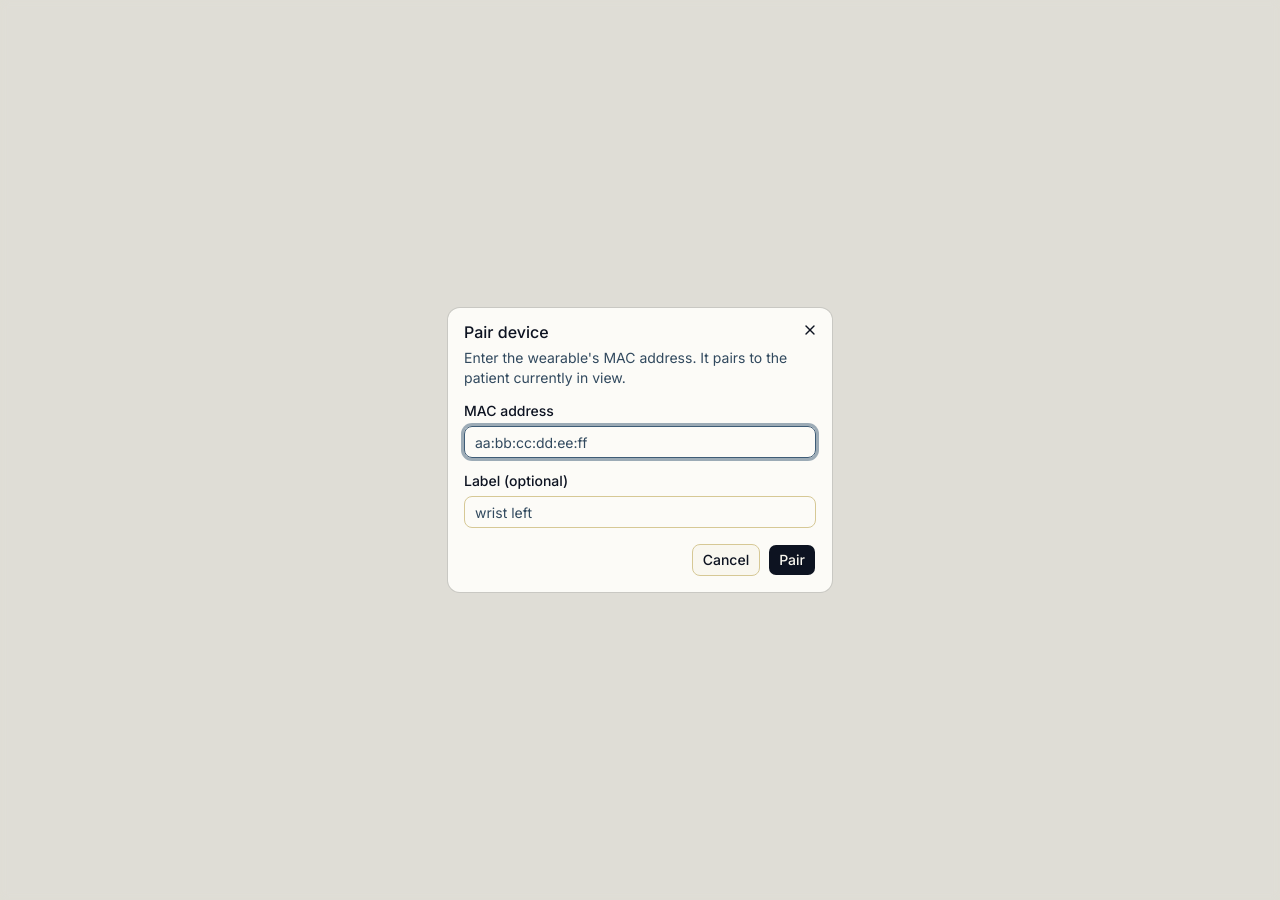
Test: PairDeviceDialog › rejects an invalid MAC address with a Zod validation error
In the field labelled "MAC address": (640, 442) [464,426,816,458], type "not-a-mac"
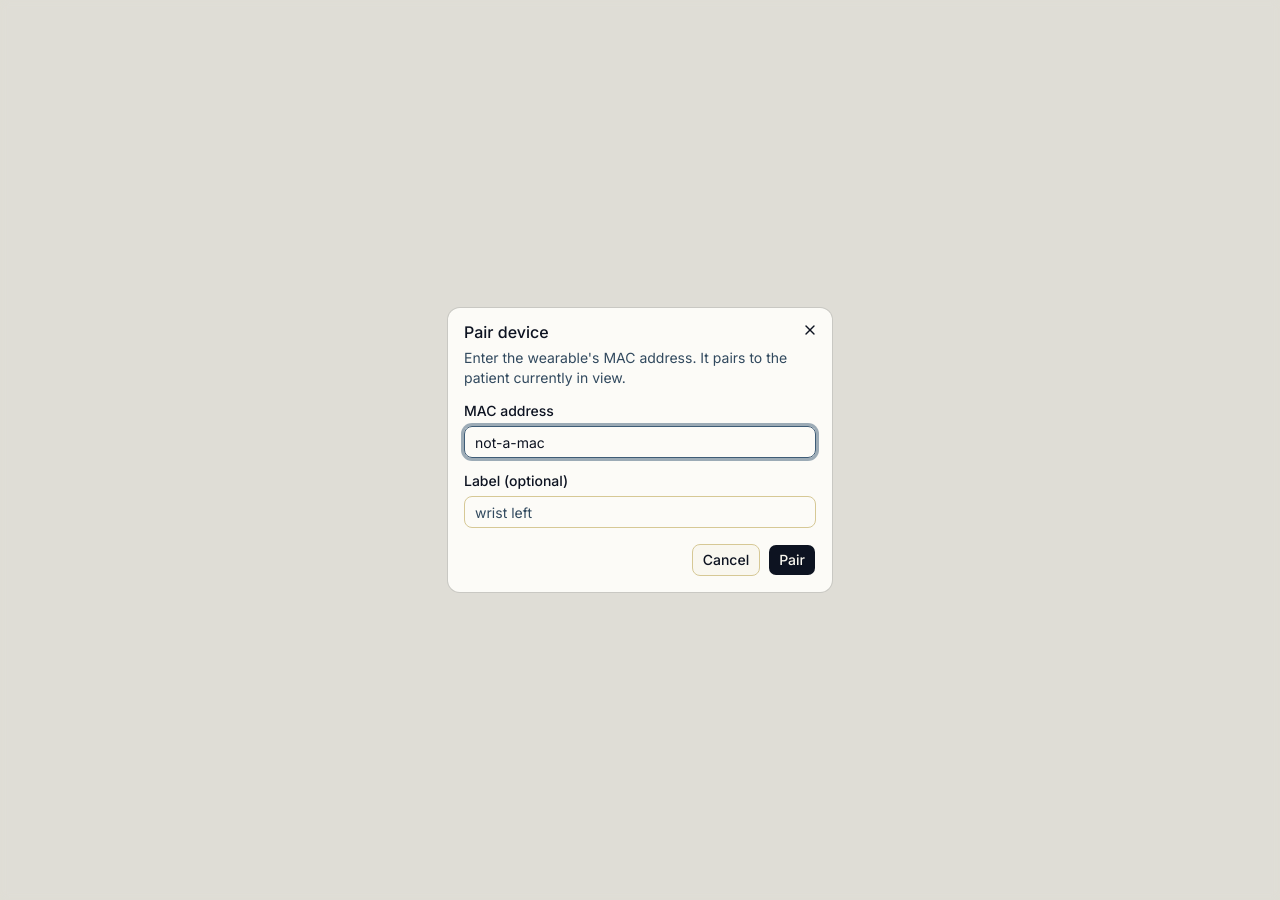
Click the button "Pair": (792, 560) [768,544,816,576]
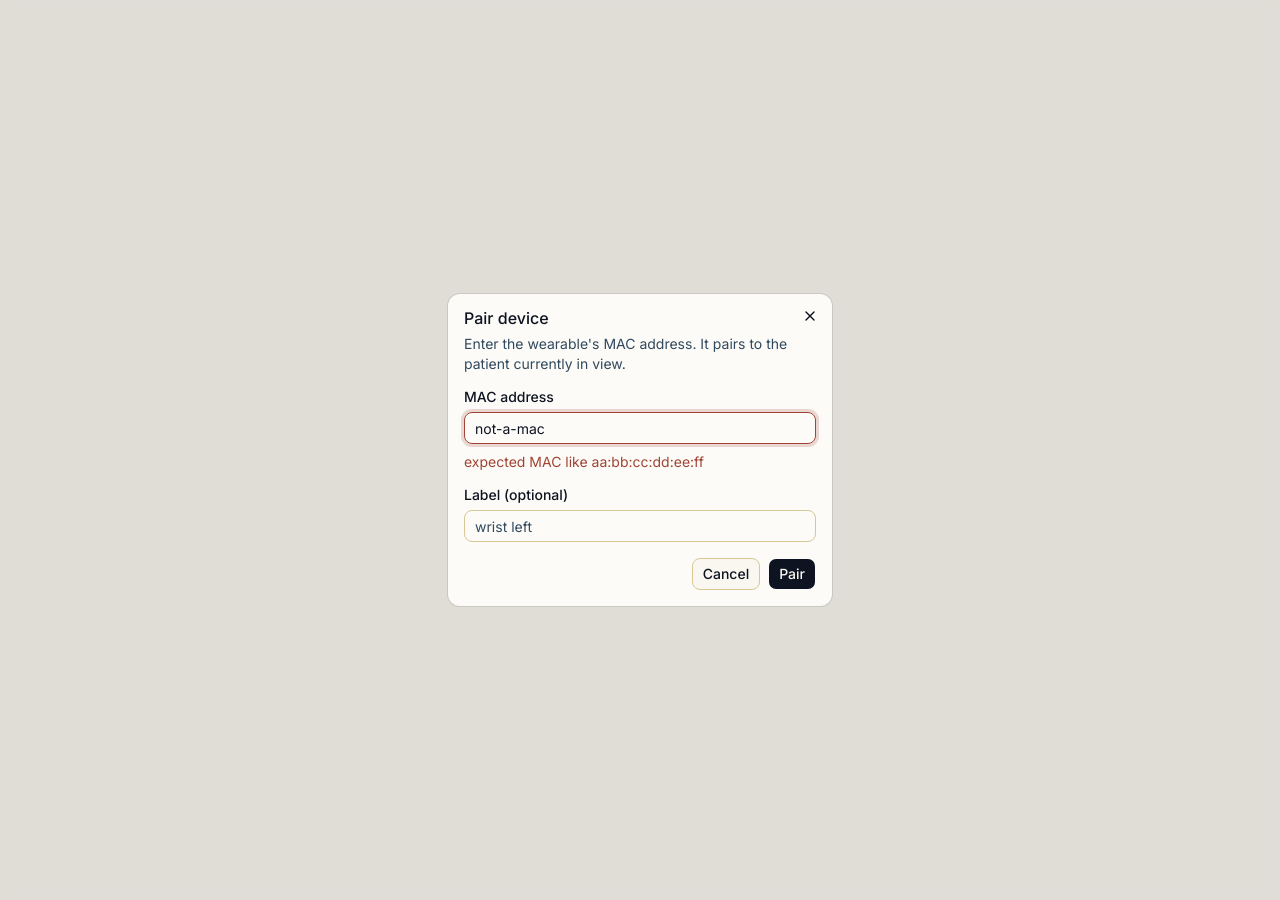
expect the text "expected MAC like aa:bb:cc:dd:ee:ff" is shown: met, box [464,453,704,470]
